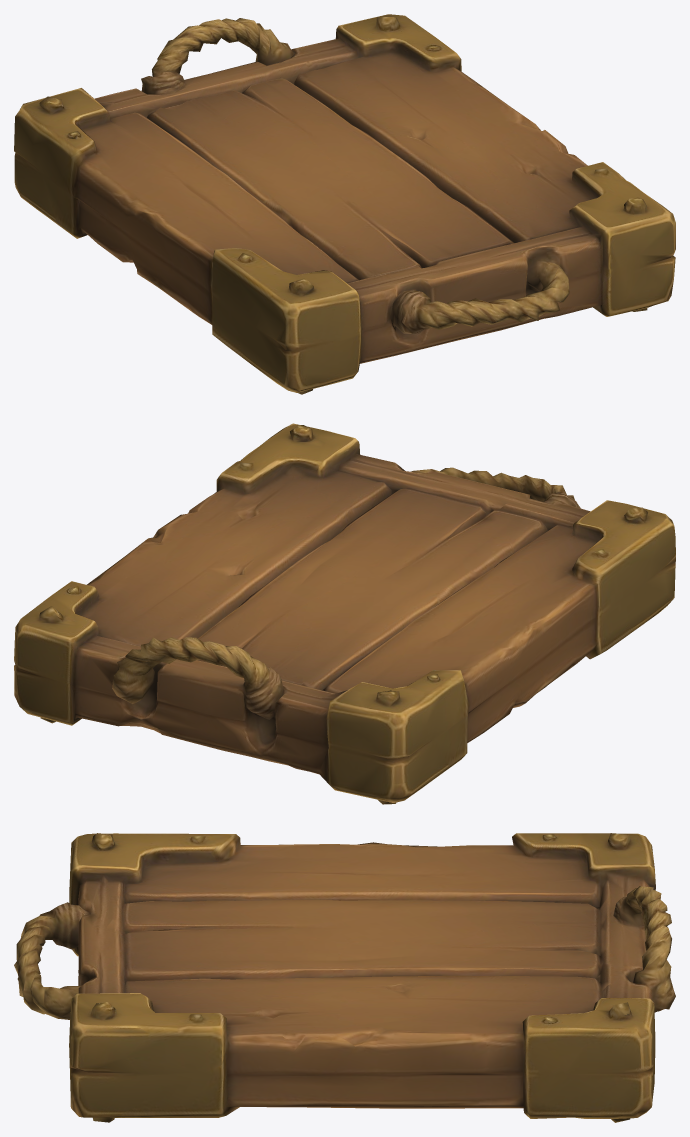
Rendered from plank.glb.
The picture shows the model from 3 angles, top to bottom: view 1: azimuth 30°, elevation 25°; view 2: azimuth 150°, elevation 25°; view 3: azimuth 270°, elevation 25°; orthographic projection. The views are drawn at different scales.
Parts seen in each view (by area): view 1: tripo_node_945fbd62-670d-4137-90d9-982f03d0e10f; view 2: tripo_node_945fbd62-670d-4137-90d9-982f03d0e10f; view 3: tripo_node_945fbd62-670d-4137-90d9-982f03d0e10f.
Boxes of the visible parts, <box> form: tripo_node_945fbd62-670d-4137-90d9-982f03d0e10f: <box>14,14,675,394</box>; tripo_node_945fbd62-670d-4137-90d9-982f03d0e10f: <box>14,423,675,804</box>; tripo_node_945fbd62-670d-4137-90d9-982f03d0e10f: <box>14,833,675,1122</box>.
Bounding box in the file's own units: 0.7161 × 0.2302 × 1.
Materials: 1 (1 with a texture image).
